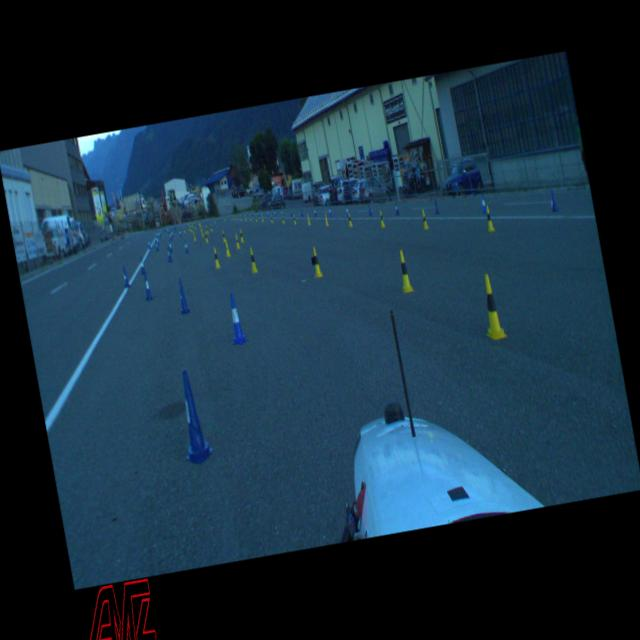blue_cone: (170, 366, 214, 464), (225, 292, 248, 344), (174, 276, 190, 314), (140, 272, 154, 300), (548, 189, 558, 213), (121, 264, 130, 288), (138, 255, 146, 274), (479, 194, 486, 214), (165, 246, 172, 262), (433, 199, 440, 215), (393, 200, 399, 216), (366, 203, 372, 216), (168, 239, 173, 252), (184, 239, 188, 252), (344, 204, 348, 217), (328, 206, 332, 217), (313, 206, 317, 216), (154, 240, 158, 250), (146, 238, 150, 248), (156, 236, 160, 246), (300, 206, 304, 216), (154, 230, 158, 238), (170, 228, 173, 238), (256, 210, 260, 217), (169, 231, 172, 240), (178, 228, 181, 237), (166, 226, 169, 233), (252, 210, 255, 217), (266, 210, 269, 217), (280, 208, 283, 215), (158, 230, 160, 238), (159, 228, 161, 236), (218, 214, 220, 222), (274, 209, 276, 217), (290, 208, 292, 216), (160, 227, 162, 234), (241, 210, 243, 217), (246, 210, 248, 217), (250, 210, 252, 216), (260, 210, 262, 216)
yellow_cone: (476, 272, 506, 341), (394, 247, 412, 293), (310, 246, 322, 278), (484, 206, 495, 232), (248, 246, 258, 272), (419, 208, 428, 230), (212, 246, 220, 268), (378, 209, 385, 228), (223, 238, 230, 256), (233, 232, 240, 249), (346, 212, 353, 228), (238, 228, 244, 243), (323, 212, 329, 226), (306, 213, 311, 226), (192, 229, 196, 241), (204, 230, 208, 242), (221, 230, 225, 242), (292, 214, 296, 225), (281, 214, 285, 224), (205, 224, 209, 234), (208, 222, 212, 232), (248, 214, 252, 222), (182, 224, 185, 233), (200, 228, 203, 237), (255, 214, 258, 222), (193, 222, 196, 230), (239, 214, 242, 222), (244, 214, 247, 222), (212, 216, 215, 223), (233, 214, 236, 221), (261, 215, 264, 222), (190, 222, 193, 228), (223, 215, 226, 221), (270, 214, 272, 222), (190, 224, 192, 232), (188, 223, 190, 231), (200, 224, 202, 232), (230, 213, 232, 220), (236, 213, 238, 220), (198, 221, 200, 227), (197, 219, 199, 225)
